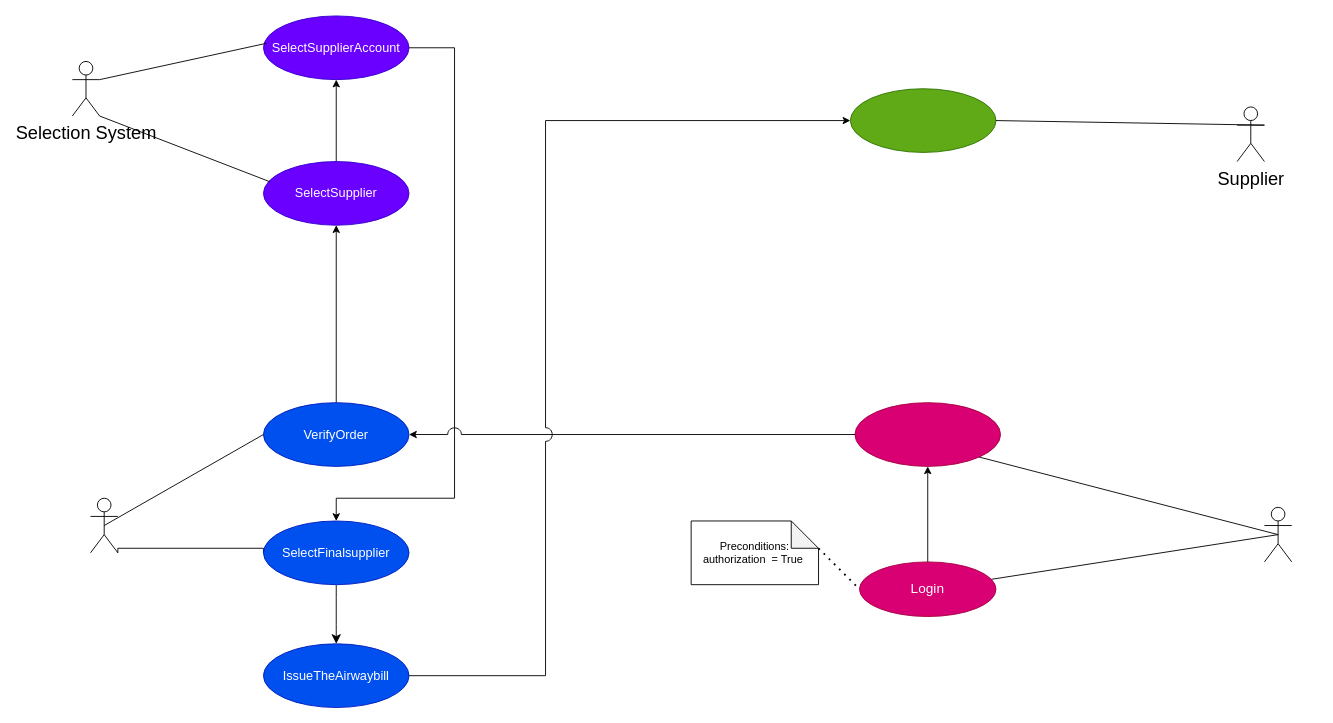
The diagram is 1333 pixels wide and 723 high, and some of its shapes have lost their labels. The box of each missing label's shape, as (x1, y1, x2, y2) in pixels:
Adminastrator: (90, 497, 118, 553)
CreateTheO rder: (854, 402, 1001, 466)
Customer: (1264, 506, 1292, 562)
SendTheShipment: (849, 88, 996, 152)
